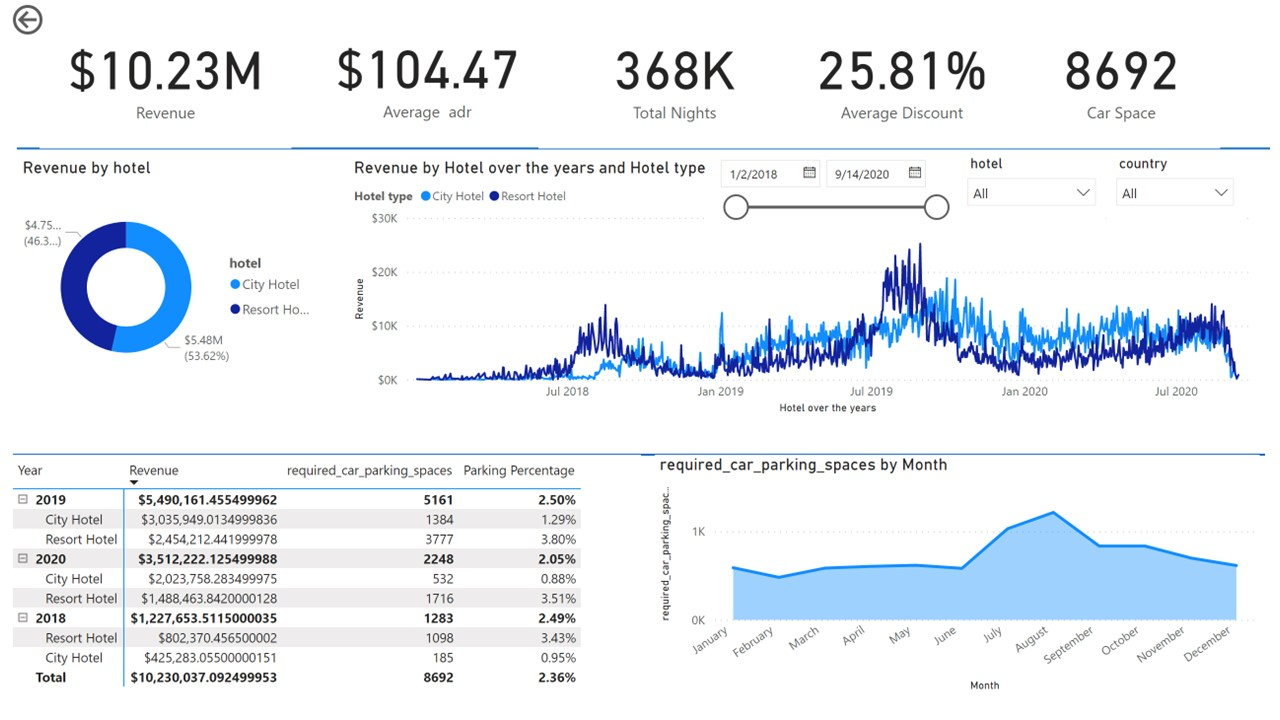

What the dashboard file says about the page in this screenshot:
{"tool":"powerbi","page":{"name":"Page 1","canvas":[1291,818],"ordinal":0},"visuals":[{"type":"card","title":"Revenue","fields":{"Values":["Sum(Sheet1.Revenue)"]},"box":[19.2,96.1,246.9,135.7],"z":2000},{"type":"card","title":"ADR","fields":{"Values":["Avg(Sheet1.adr)"]},"box":[294.3,96.1,232.3,135.7],"z":3000},{"type":"card","title":"Total Nights","fields":{"Values":["Sheet1.Total Nights"]},"box":[558.3,97.3,232.3,135.7],"z":5000},{"type":"card","title":"Average Discount","fields":{"Values":["Avg(Sheet1.Discount)"]},"box":[818.7,97.3,237.1,135.7],"z":6000},{"type":"lineChart","title":"Hotel Revenue by Hotel type","fields":{"Category":["Sheet1.reservation_status_date"],"Y":["Sum(Sheet1.Revenue)"],"Series":["Sheet1.hotel"]},"box":[354.2,259.9,924.1,264],"z":7000},{"type":"slicer","fields":{"Values":["Sheet1.country"]},"box":[1121.9,272.1,139.4,72.1],"z":8000},{"type":"slicer","fields":{"Values":["Sheet1.hotel"]},"box":[971.5,269.7,150.4,72.1],"z":9000},{"type":"card","title":"Car Spaces","fields":{"Values":["Sum(Sheet1.required_car_parking_spaces)"]},"box":[1084.6,94.4,193,137.5],"z":10000},{"type":"donutChart","title":"Revenue by Hotel","fields":{"Category":["Sheet1.hotel"],"Y":["Sum(Sheet1.Revenue)"]},"box":[19.2,259.9,310.5,264],"z":11000},{"type":"pivotTable","fields":{"Rows":["Sheet1.reservation_status_date.Variation.Date Hierarchy.Year","Sheet1.hotel"],"Values":["Sum(Sheet1.Revenue)","Sum(Sheet1.required_car_parking_spaces)","Sheet1.Parking Percentage"]},"box":[19.2,542.3,630.8,251.8],"z":12000},{"type":"stackedAreaChart","title":"Required Car Parking Spaces by Month","fields":{"Category":["Sheet1.reservation_status_date.Variation.Date Hierarchy.Month"],"Y":["Sum(Sheet1.required_car_parking_spaces)"]},"box":[669.6,542.3,608.8,251.8],"z":13000},{"type":"slicer","fields":{"Values":["Sheet1.reservation_status_date"]},"box":[718.5,269.7,253,74.6],"z":14000},{"type":"card","title":"HOTEL REVENUE ANALYSIS","fields":{"Values":["Sum(Sheet1.Revenue)"]},"box":[19.4,9.7,1258.2,68.1],"z":14001}]}

Visuals, with their boxes on the page's 1291x818 design canvas (x1, y1, x2, y2). These are canvas units, not pixel positions in the 1280x720 screenshot, which may show the page scaled, cropped or inside an application window:
"Revenue" card: {"left": 19, "top": 96, "right": 266, "bottom": 232}
"ADR" card: {"left": 294, "top": 96, "right": 527, "bottom": 232}
"Total Nights" card: {"left": 558, "top": 97, "right": 791, "bottom": 233}
"Average Discount" card: {"left": 819, "top": 97, "right": 1056, "bottom": 233}
"Hotel Revenue by Hotel type" lineChart: {"left": 354, "top": 260, "right": 1278, "bottom": 524}
slicer - Sheet1.country: {"left": 1122, "top": 272, "right": 1261, "bottom": 344}
slicer - Sheet1.hotel: {"left": 972, "top": 270, "right": 1122, "bottom": 342}
"Car Spaces" card: {"left": 1085, "top": 94, "right": 1278, "bottom": 232}
"Revenue by Hotel" donutChart: {"left": 19, "top": 260, "right": 330, "bottom": 524}
pivotTable - Sheet1.reservation_status_date.Variation.Date Hierarchy.Year x Sheet1.hotel: {"left": 19, "top": 542, "right": 650, "bottom": 794}
"Required Car Parking Spaces by Month" stackedAreaChart: {"left": 670, "top": 542, "right": 1278, "bottom": 794}
slicer - Sheet1.reservation_status_date: {"left": 718, "top": 270, "right": 972, "bottom": 344}
"HOTEL REVENUE ANALYSIS" card: {"left": 19, "top": 10, "right": 1278, "bottom": 78}
